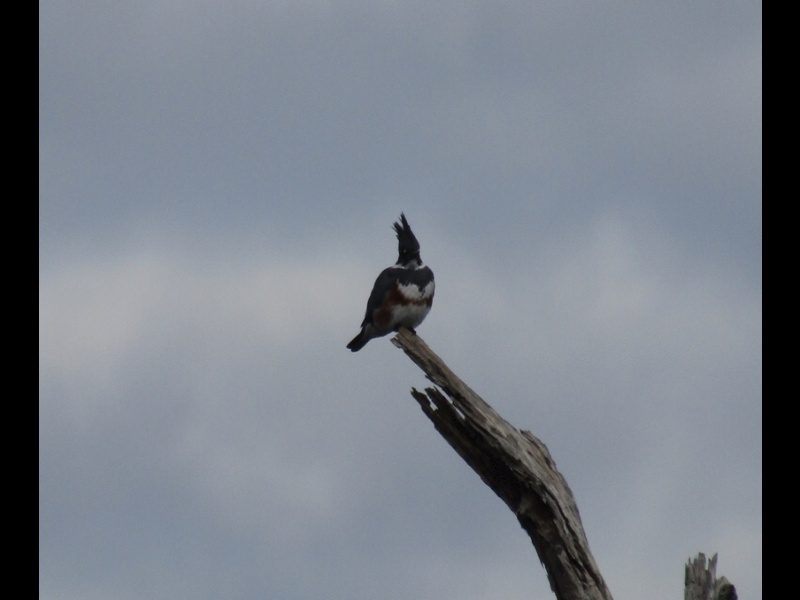kingfisher: (348, 208, 436, 354)
